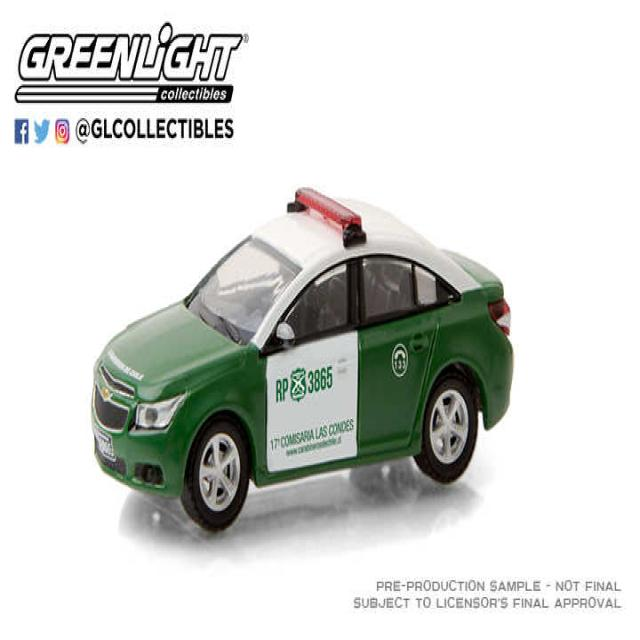Car: (90, 184, 514, 533)
